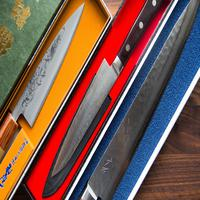knife: (45, 1, 163, 192), (88, 1, 196, 197), (1, 1, 87, 151)
